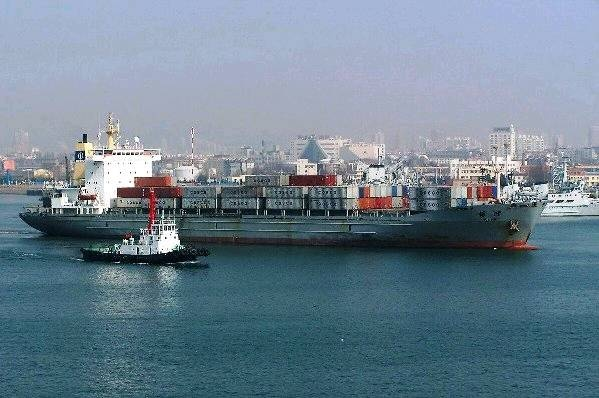otherboat: (19, 106, 552, 242), (75, 204, 211, 268)
